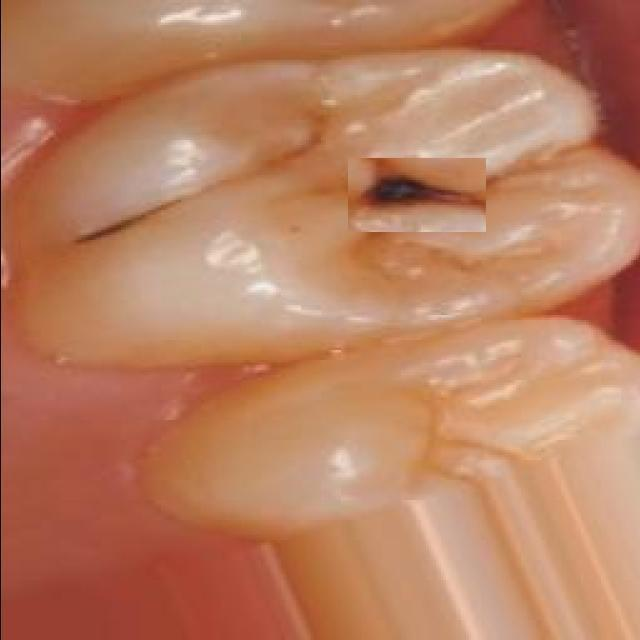caries: (347, 158, 485, 232)
